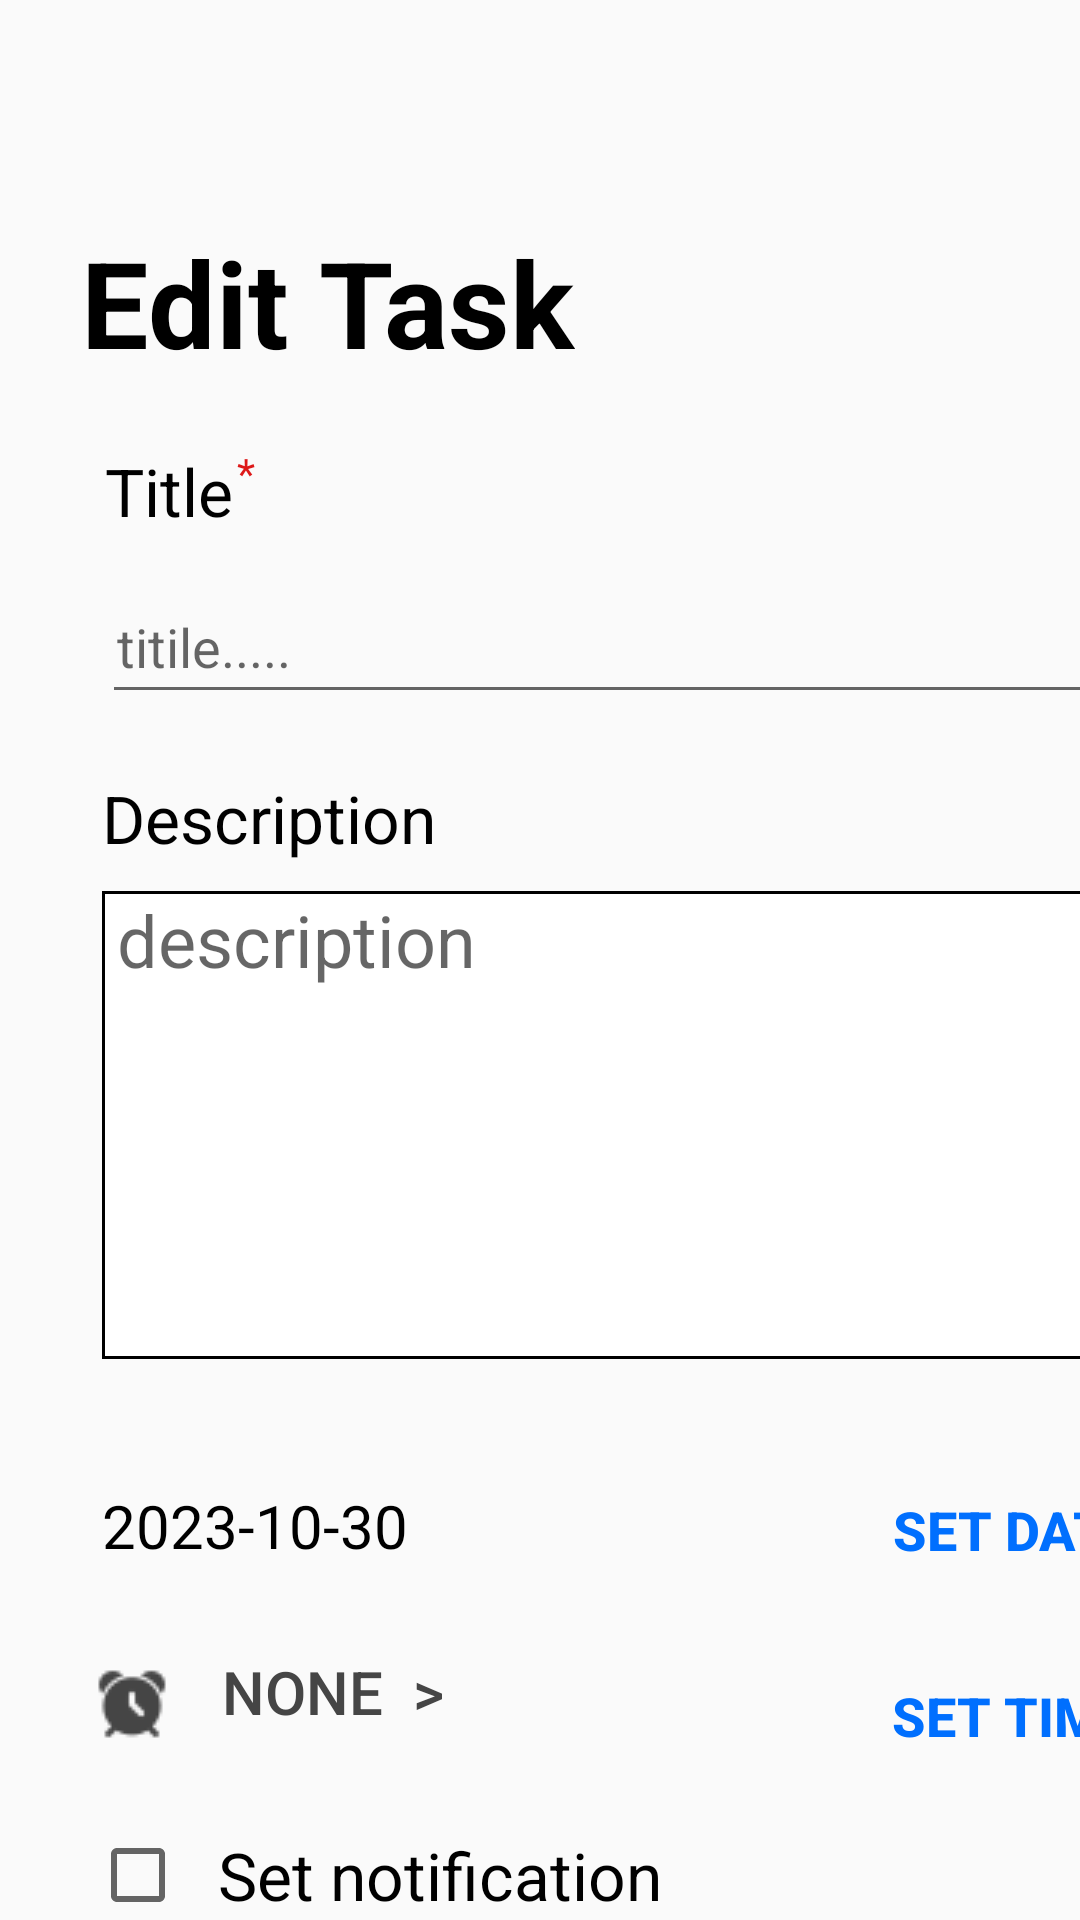

Icons on this 1080px x 1920px Android screen, each with its box as (x1, y1, x2, y2):
alarmclock: (98, 1670, 166, 1738)
